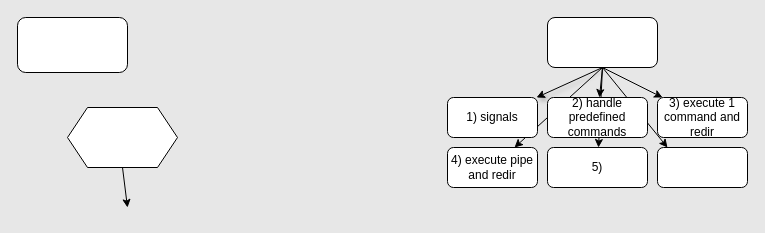
Some shapes in this 765 by 233 pixel diagram are drawn without their labels. Each missing label, with the centre of its shape:
"1)signals" goes at point 72,44.
"execution" goes at point 602,42.
"execution(t_cmd *cmds_list)" goes at point 122,137.
